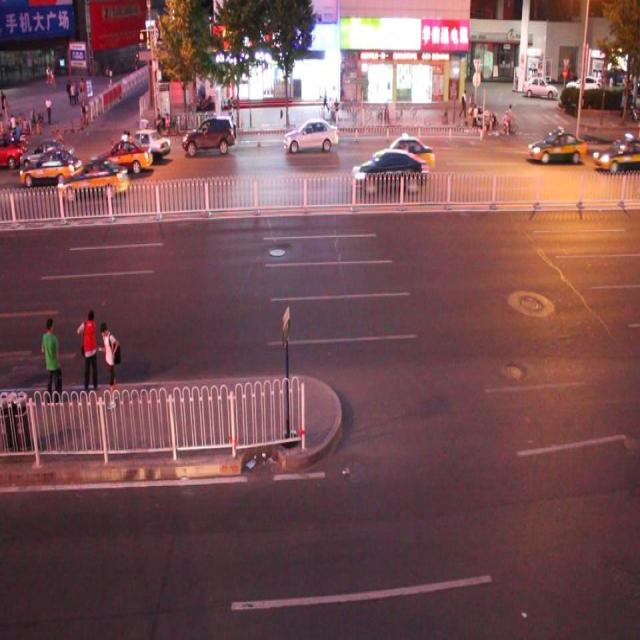car: (352, 150, 424, 193), (58, 158, 129, 198), (374, 134, 433, 172), (21, 149, 82, 185), (591, 131, 640, 175), (527, 129, 583, 166), (182, 115, 235, 154), (94, 139, 153, 174), (284, 119, 338, 154), (21, 138, 75, 170), (124, 126, 170, 161), (1, 131, 29, 166)
